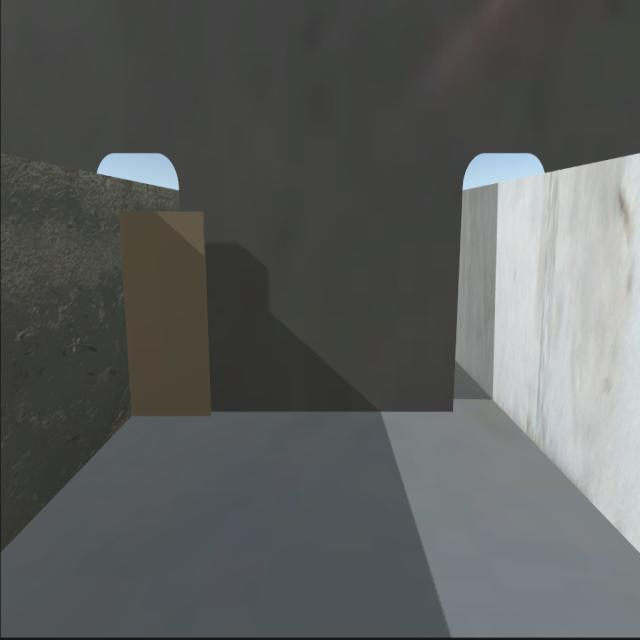fillet_yong_jeop_jang: (132, 404, 456, 419)
longi_yong_jeop_jang: (120, 219, 141, 410)
plate_CP01: (125, 209, 212, 413)
